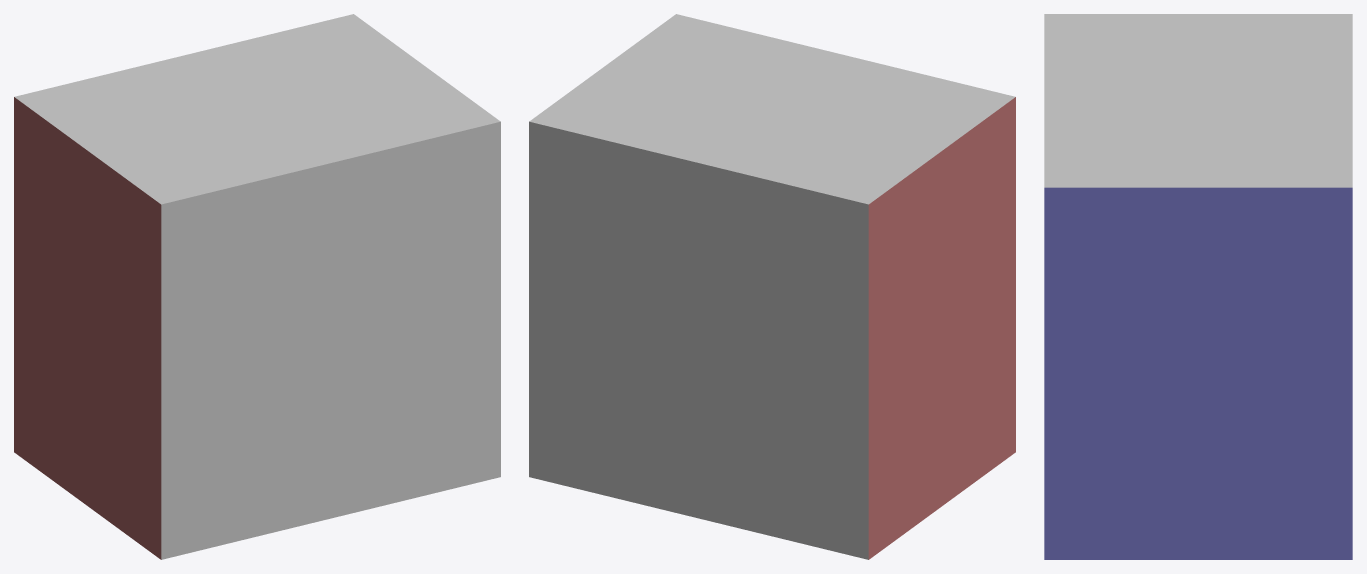
The model's file is cbbunny.glb.
3 views of the same model, side by side, from view 1: azimuth 30°, elevation 25°; view 2: azimuth 150°, elevation 25°; view 3: azimuth 270°, elevation 25° (orthographic). The views are drawn at different scales.
Visible parts, largest first — view 1: ceiling, leftWall, backWall; view 2: floor, leftWall, backWall; view 3: rightWall, backWall.
Part boxes in pixels (bbox=[...]): ceiling: bbox=[161, 121, 500, 559]; leftWall: bbox=[14, 97, 161, 559]; backWall: bbox=[14, 14, 500, 204]; floor: bbox=[529, 121, 868, 559]; leftWall: bbox=[868, 97, 1015, 559]; backWall: bbox=[529, 14, 1015, 204]; rightWall: bbox=[1044, 187, 1352, 559]; backWall: bbox=[1044, 14, 1352, 187].
Bounding box in the file's own units: 2 × 2 × 1.5.
